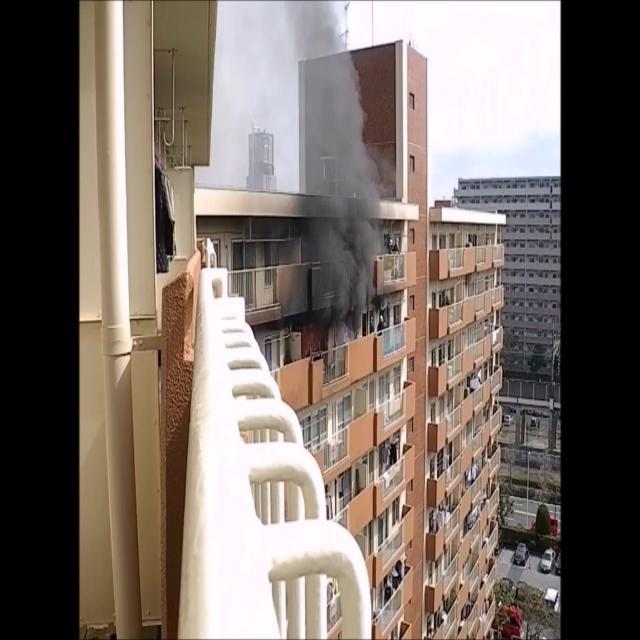Smoke: (220, 2, 386, 330)
